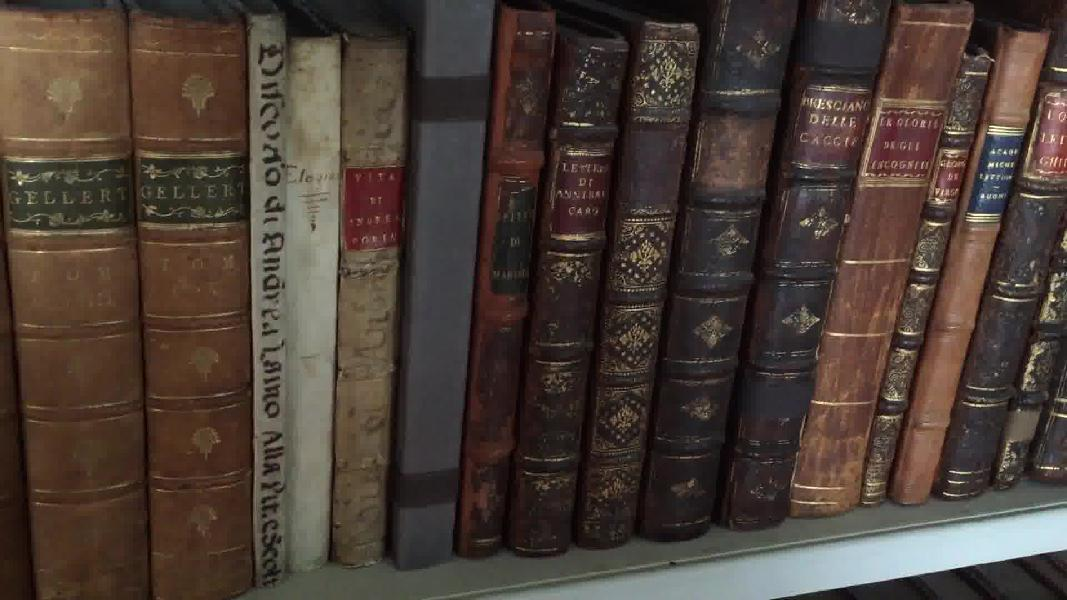Aa6-24: (244, 8, 298, 590)
Aa6-25: (288, 21, 348, 586)
Aa6-26: (335, 17, 413, 570)
Aa6-27: (402, 1, 483, 571)
Aa6-28: (454, 4, 555, 573)
Aa6-29: (509, 24, 619, 563)
Aa6-30: (579, 9, 692, 561)
Aa6-31: (648, 1, 794, 559)
Aa6-32: (721, 5, 904, 542)
Aa6-33: (797, 8, 965, 509)
Aa6-34: (856, 55, 996, 507)
Aa6-35: (889, 15, 1046, 512)
